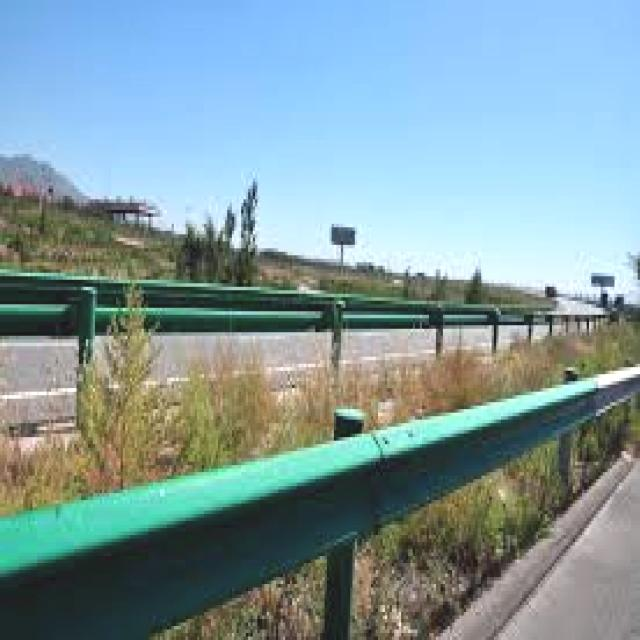Guard rail: (0, 367, 640, 637), (0, 272, 559, 348)
